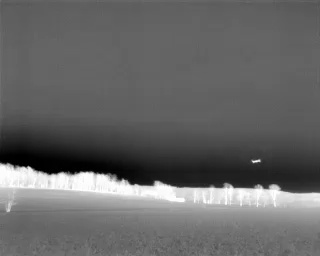DRONE: (248, 155, 265, 168)
